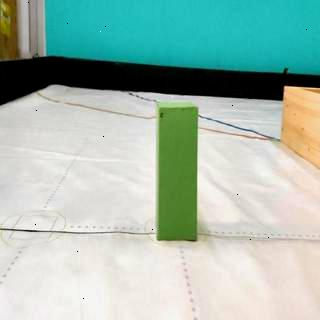greenbox: (154, 100, 200, 241)
